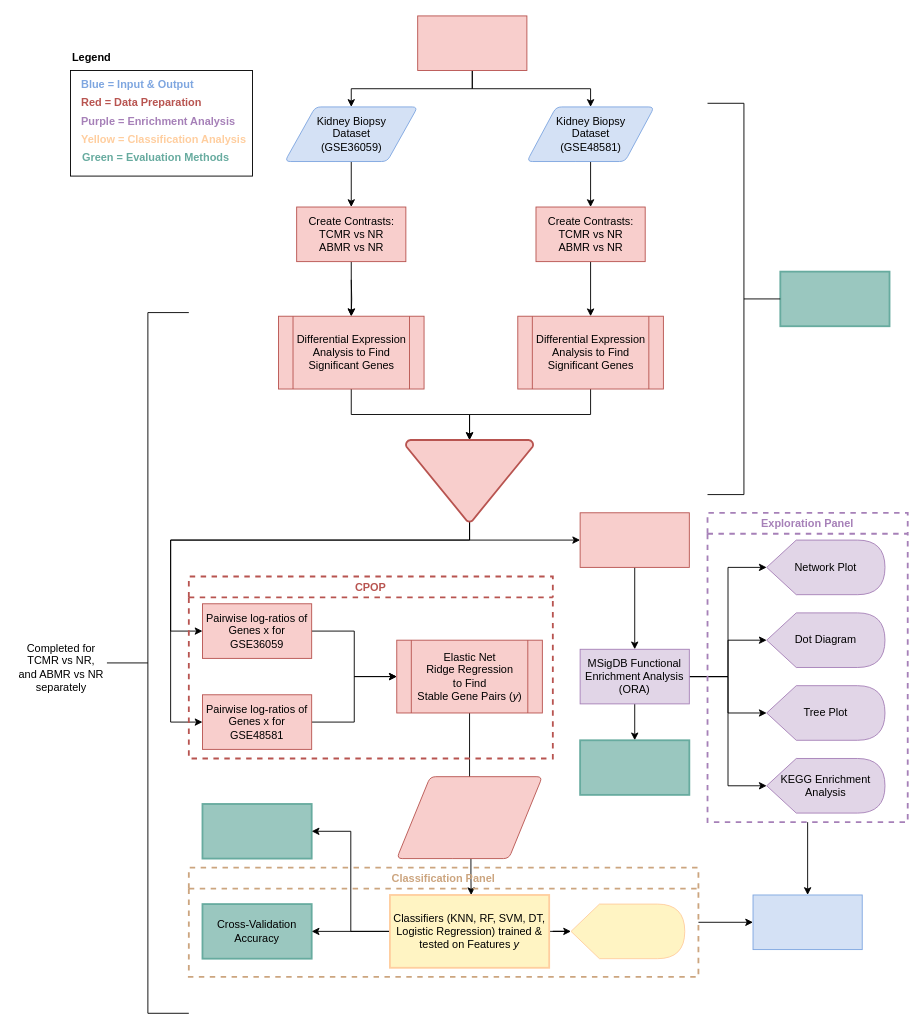
Image size: 924x1029. Some labels were removed from this diagram. The centre of each missing label's shape, as x and y in pixels:
Averaging Fold Change between datasets for Genes x: point 634,539
Classified Test Patient mapped on PCA Plot: point 627,931
Combined Dataset with Features y: point 469,817
Data Collection & Cleaning: point 472,43
Deployment to Shiny App: point 807,922
Evaluating explainability against existing literature: point 634,767
Intersection of Significant Genes ( x ): point 469,480
Precision-Recall Curve: point 256,831
Sub-sampling to test Stability of Feature Selection: point 834,298
